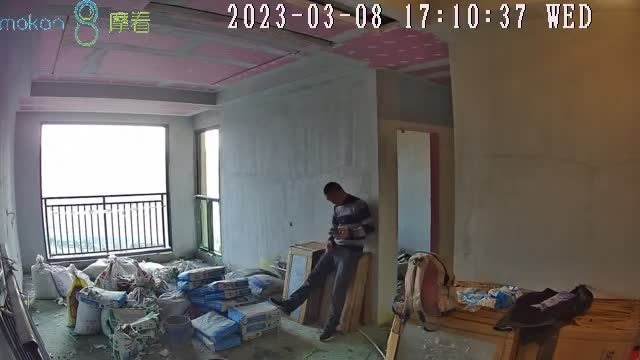people: (270, 181, 373, 341)
window: (42, 122, 167, 257), (194, 130, 220, 257)
